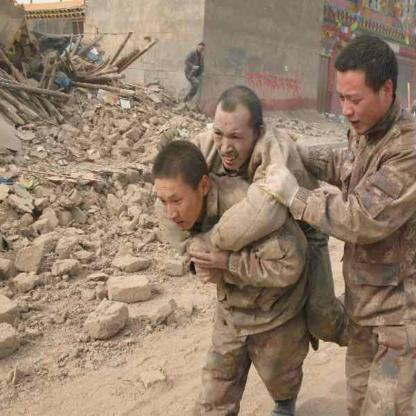face: (337, 73, 384, 135), (155, 177, 202, 231), (215, 113, 256, 170)
